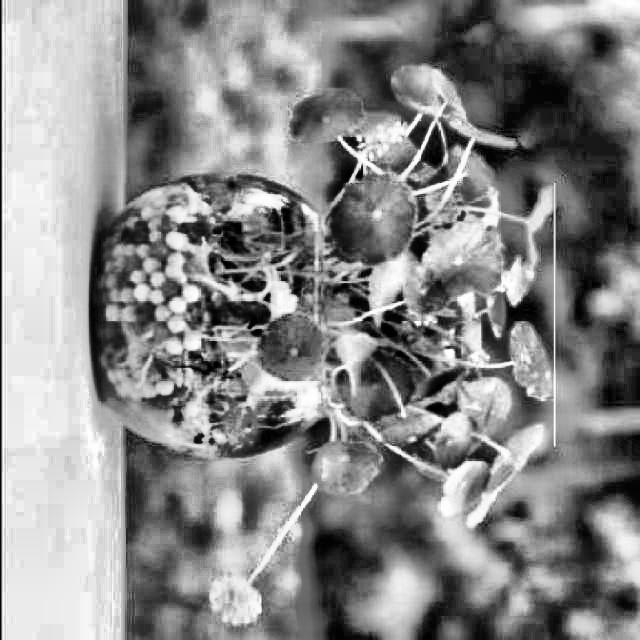plants: (103, 183, 554, 448)
